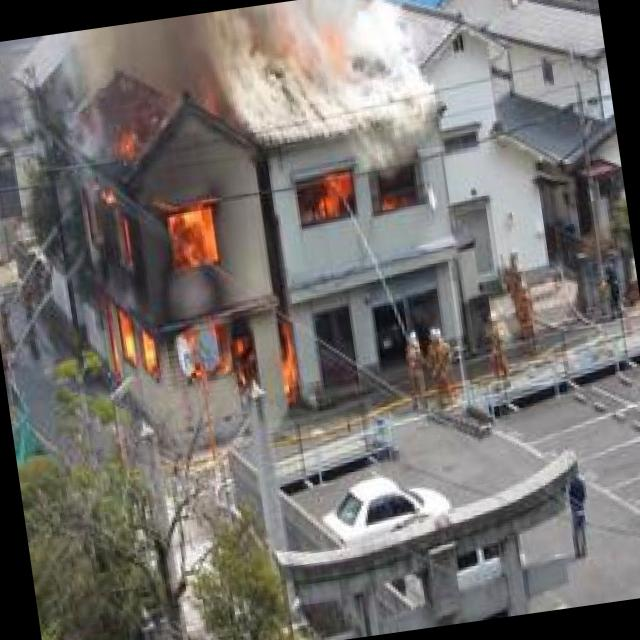Fire: (162, 194, 233, 272), (294, 162, 358, 224), (114, 309, 162, 386), (272, 320, 310, 414)
Smoke: (79, 0, 437, 174)
